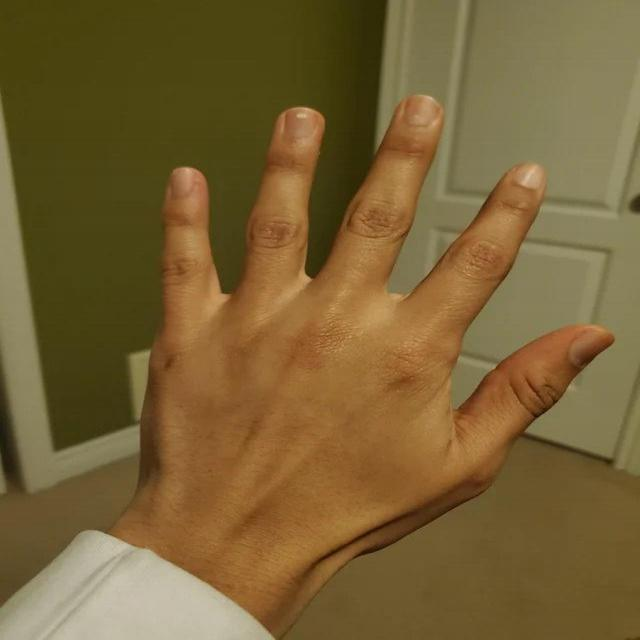hand: (105, 96, 612, 596)
